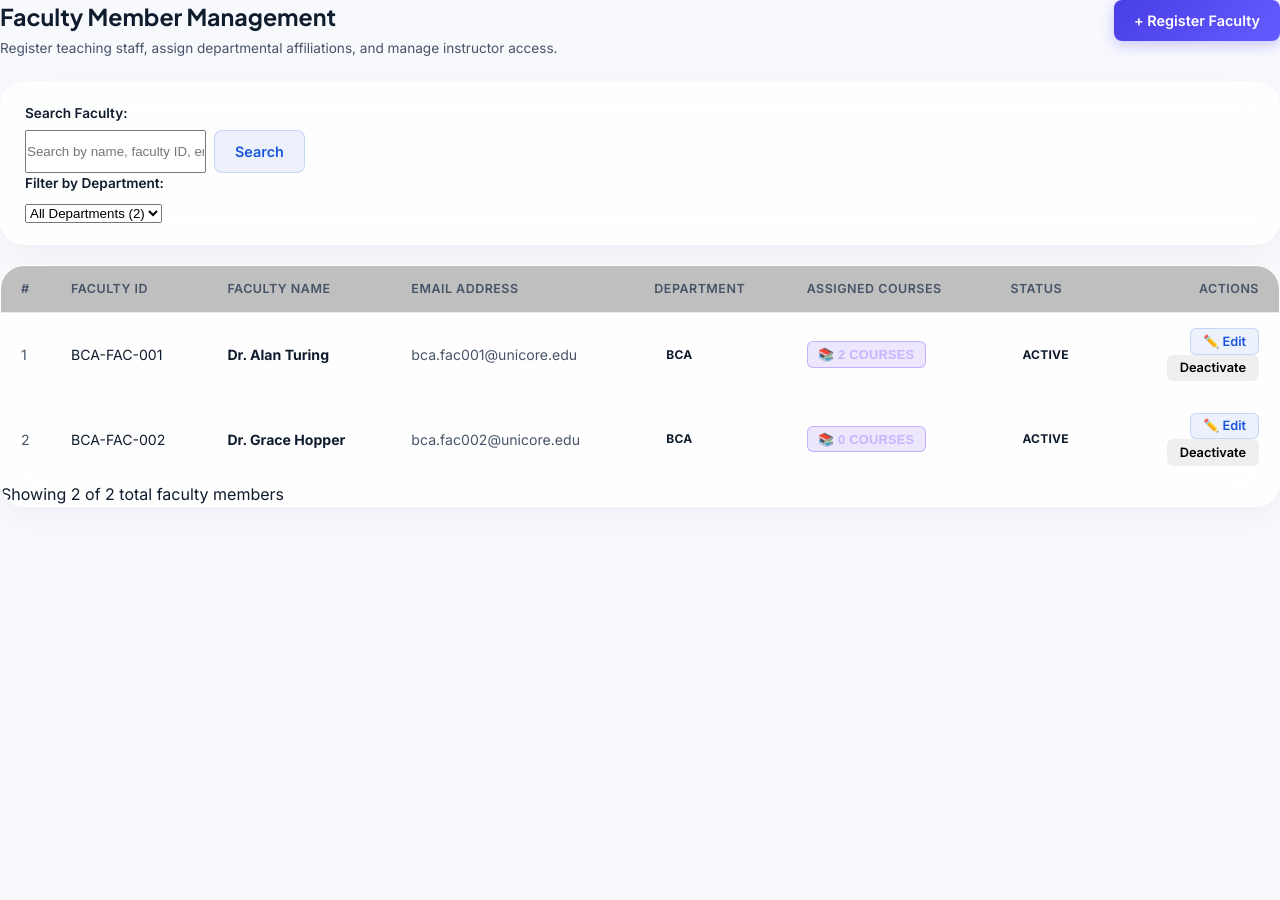
Test: Admin Portal — Faculty Assigned Courses View Tests › clicking assigned courses count opens modal with courses and details
Check: the text "Dr. Alan Turing" is shown, box [227,346,329,363]
Click the button with aria-label "View courses assigned to Dr. Alan Turing" at {"x": 866, "y": 355}, box [807,341,926,368]
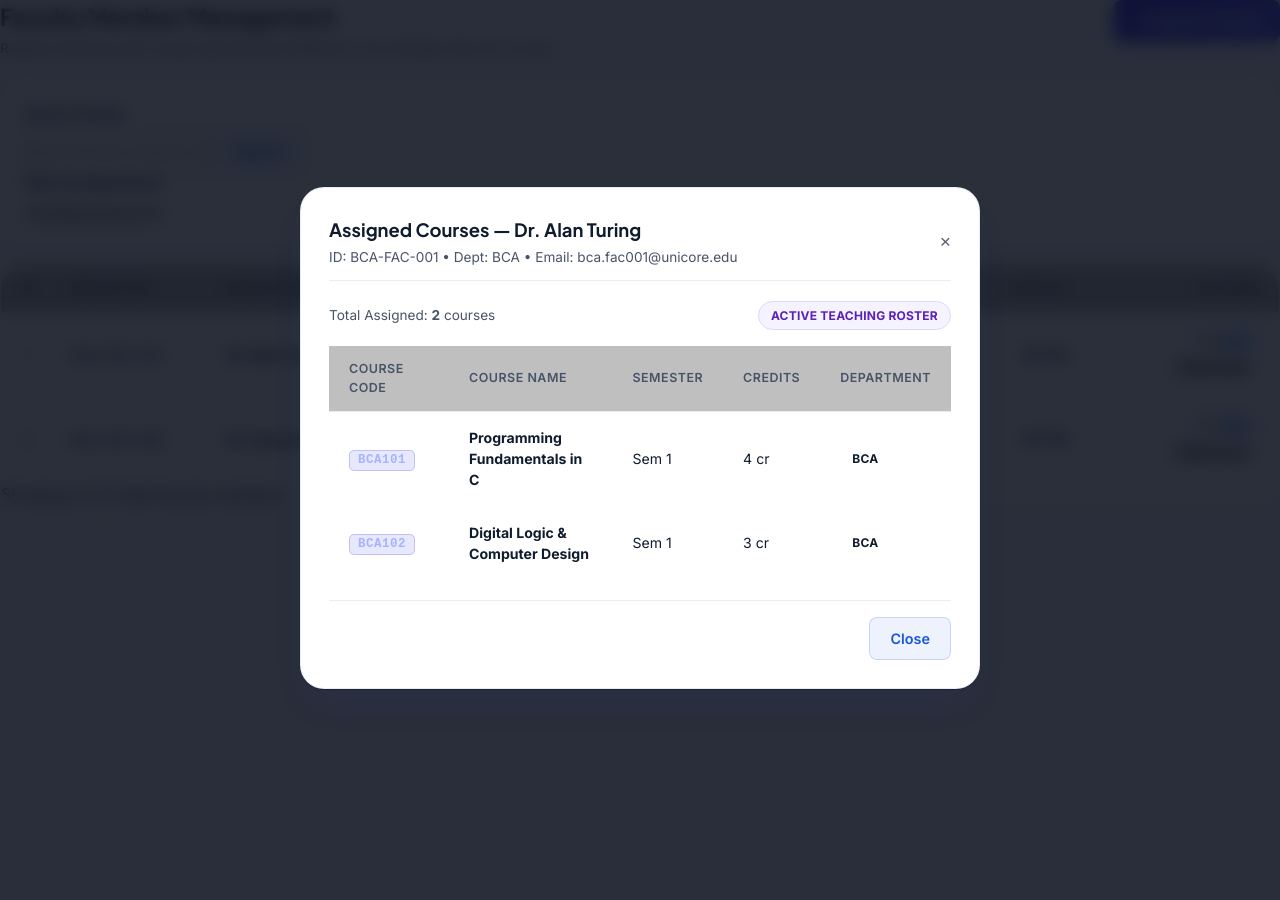
Check: the heading "Assigned Courses — Dr. Alan Turing" is shown, box [329,218,641,241]
Check: the text "BCA101" is shown, box [349,450,415,471]
Check: the text "Programming Fundamentals in C" is shown, box [469,429,582,488]
Close modal
Click the button "Close" at {"x": 910, "y": 639}, box [870,617,951,660]
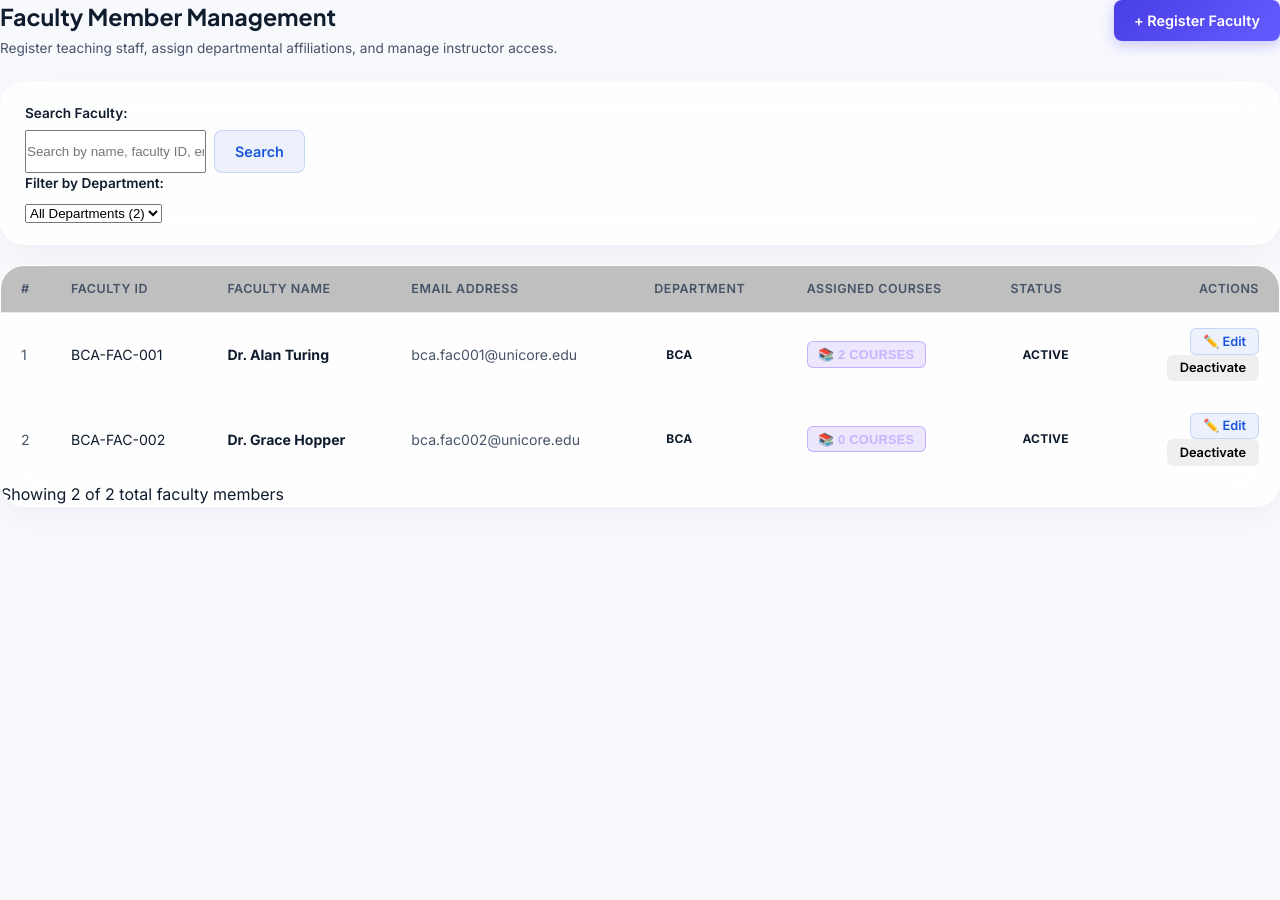
Check: the heading "Assigned Courses — Dr. Alan Turing" is gone
